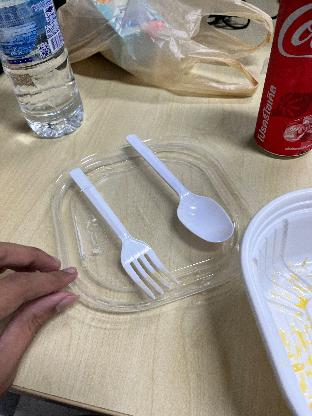Others: (58, 161, 184, 305), (125, 130, 242, 246)
